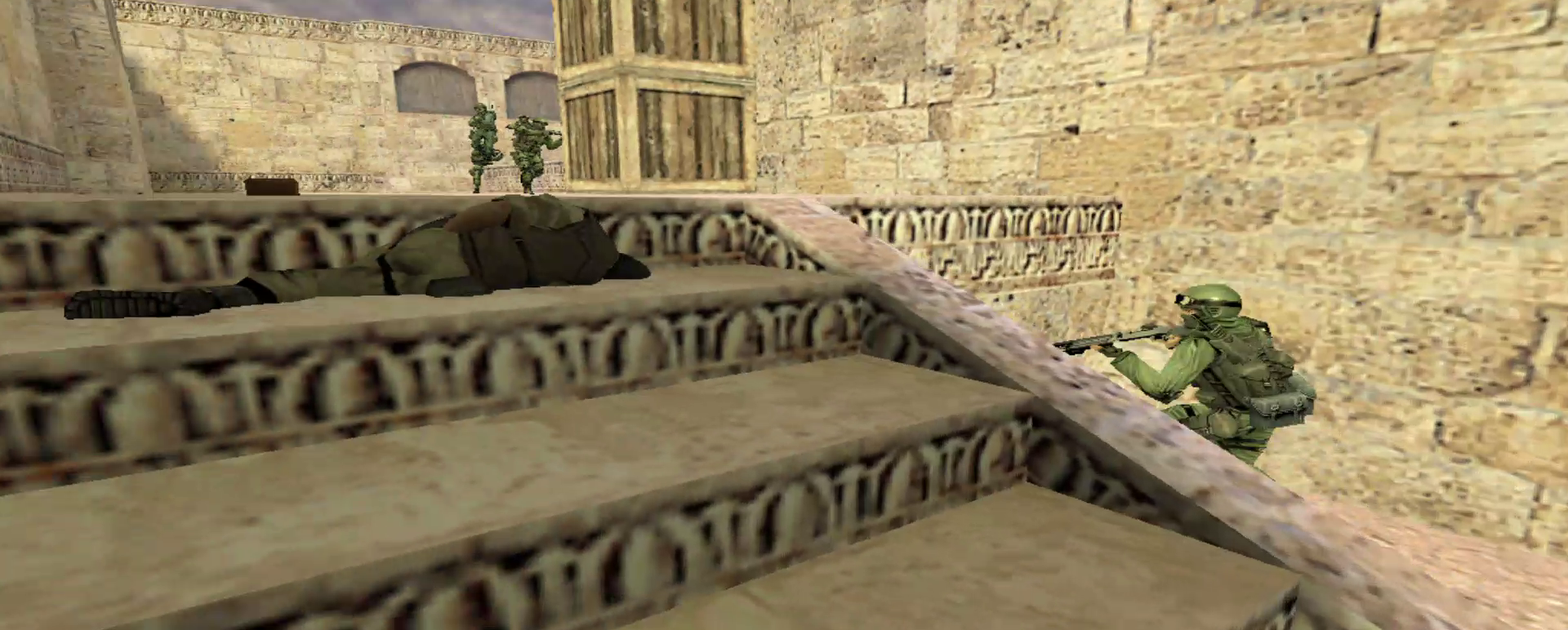counter: (1154, 310, 1314, 457), (511, 121, 550, 191), (467, 114, 499, 158)
counter_head: (1176, 285, 1243, 317), (531, 114, 548, 130), (474, 101, 490, 114)
